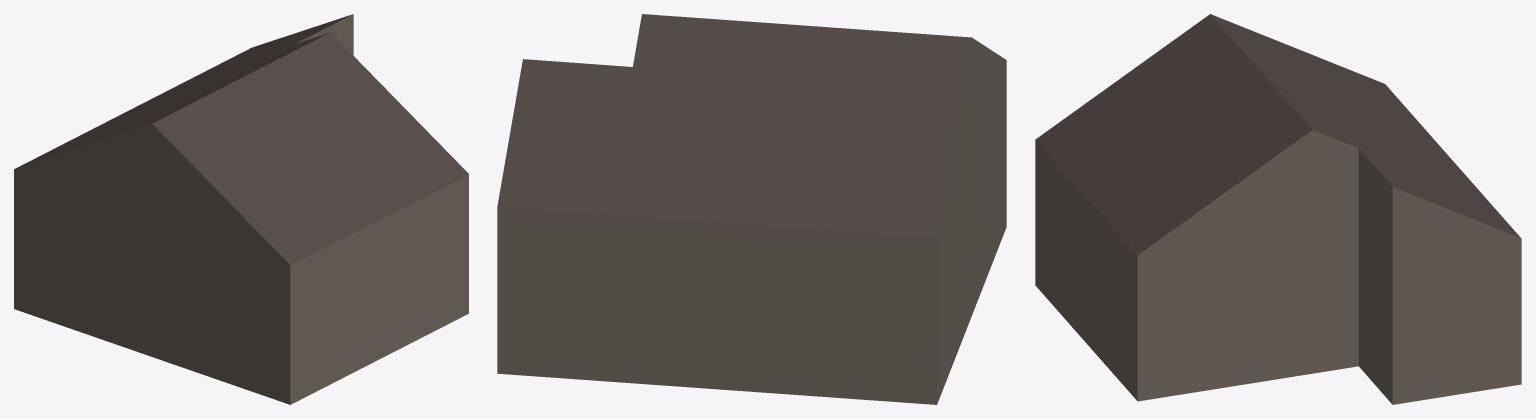
3 renders of one model, left to right at view 1: azimuth 30°, elevation 25°; view 2: azimuth 150°, elevation 25°; view 3: azimuth 270°, elevation 25°, orthographic. The views are drawn at different scales.
Parts seen in each view (by area): view 1: HP-w369317591; view 2: HP-w369317591; view 3: HP-w369317591.
Boxes of the visible parts, x1,y1,x2,y2 form: HP-w369317591: (14, 14, 468, 404); HP-w369317591: (497, 14, 1006, 404); HP-w369317591: (1035, 14, 1521, 404).
Bounding box in the file's own units: 23.14 × 15.03 × 27.15.
